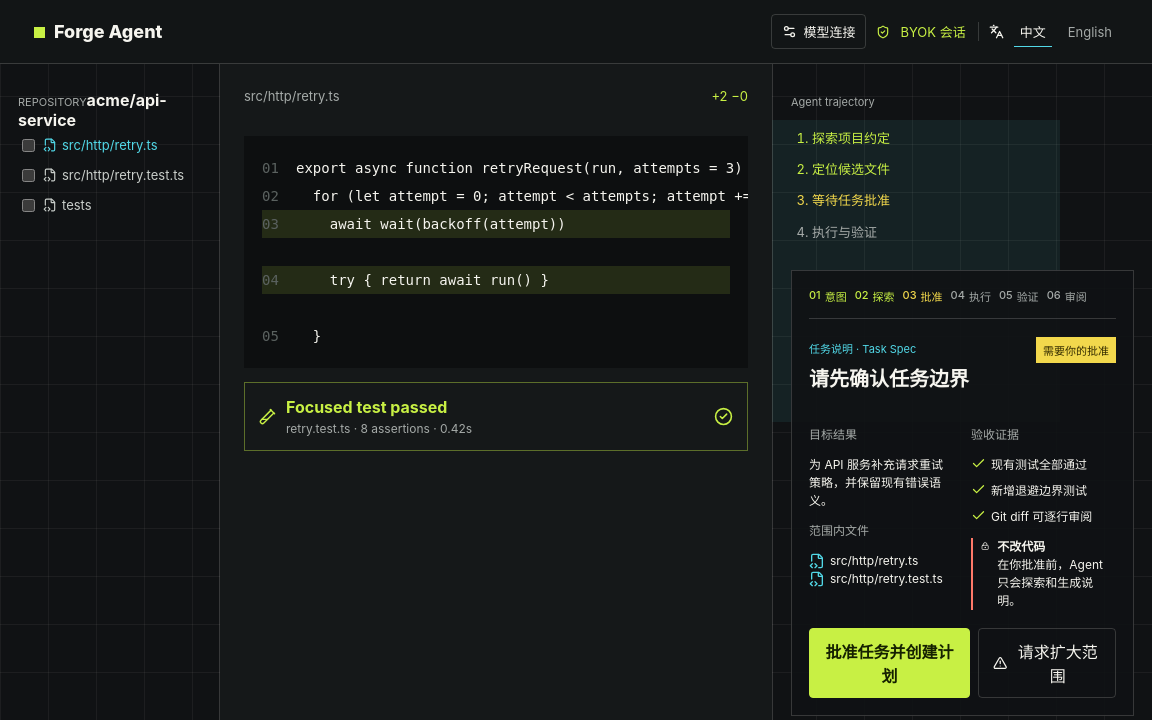
Test: renders the API trajectory after task approval
Click the button "批准任务并创建计划" at coordinates (889, 663), box [809,628,970,698]
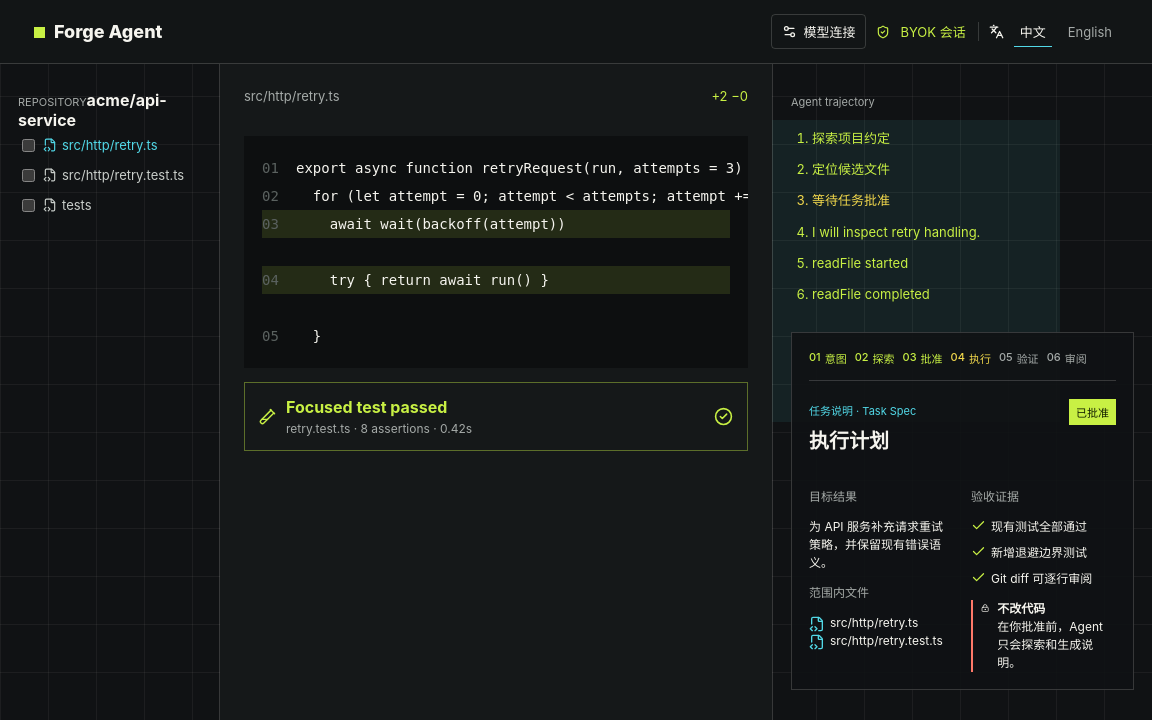
expect the list item "readFile completed" is shown: met, box [812,286,930,302]
